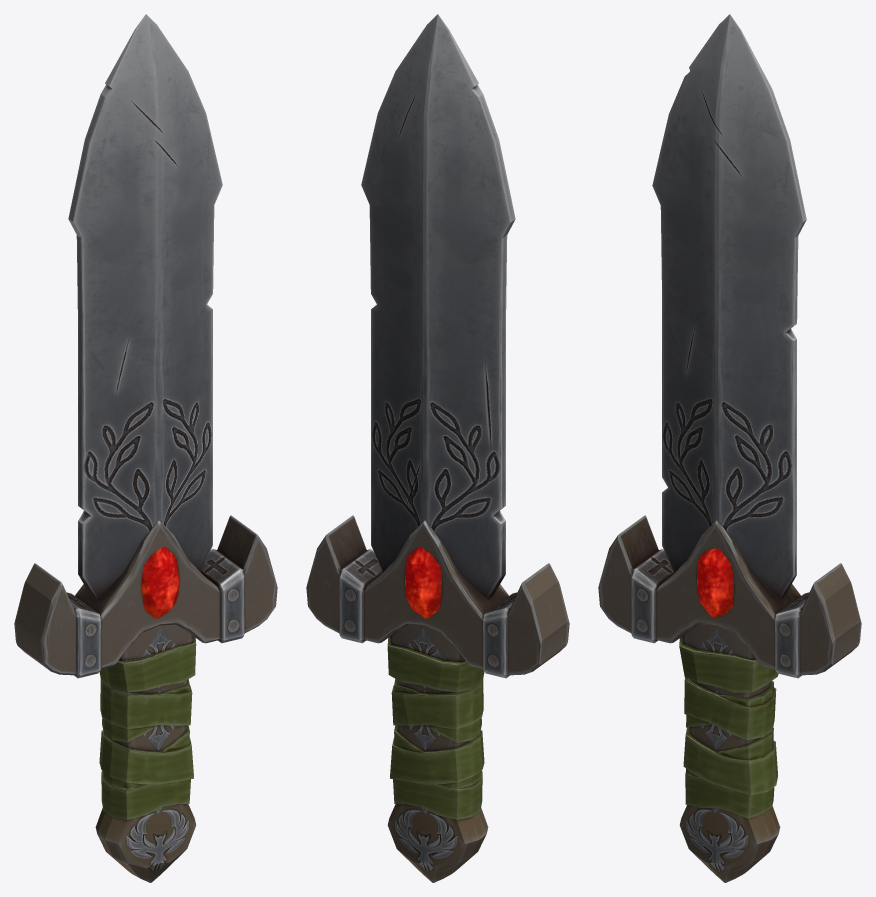
Rendered from Sword1.fbx.
3 views of the same model, side by side, from view 1: azimuth 30°, elevation 25°; view 2: azimuth 150°, elevation 25°; view 3: azimuth 330°, elevation 25° (orthographic).
Visible parts, largest first — view 1: Sword1; view 2: Sword1; view 3: Sword1.
Boxes of the visible parts, x1,y1,x2,y2 form: Sword1: [14, 14, 277, 882]; Sword1: [306, 14, 569, 882]; Sword1: [598, 14, 861, 882].
Size of the model in its own units: 50.49 by 178 by 14.95.
